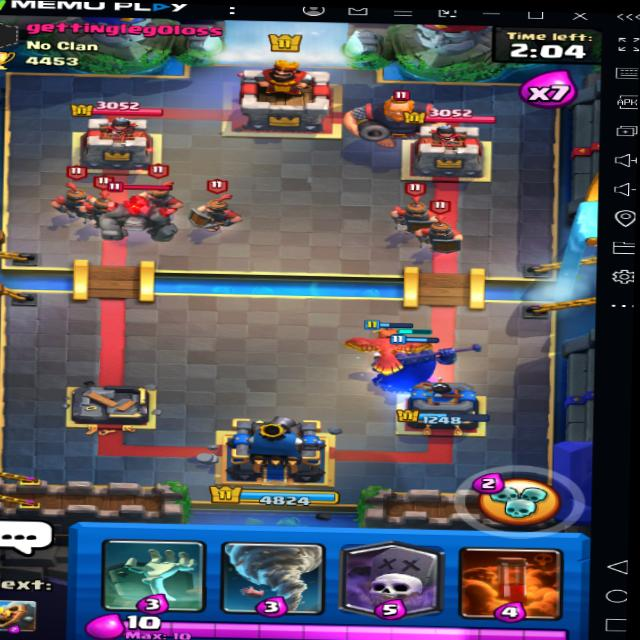golem: (84, 181, 191, 247)
royal-giant: (339, 88, 450, 148)
royal-recruits: (382, 177, 443, 241), (186, 176, 252, 235), (414, 190, 471, 256), (136, 161, 195, 222), (46, 165, 96, 226), (74, 179, 129, 228)
